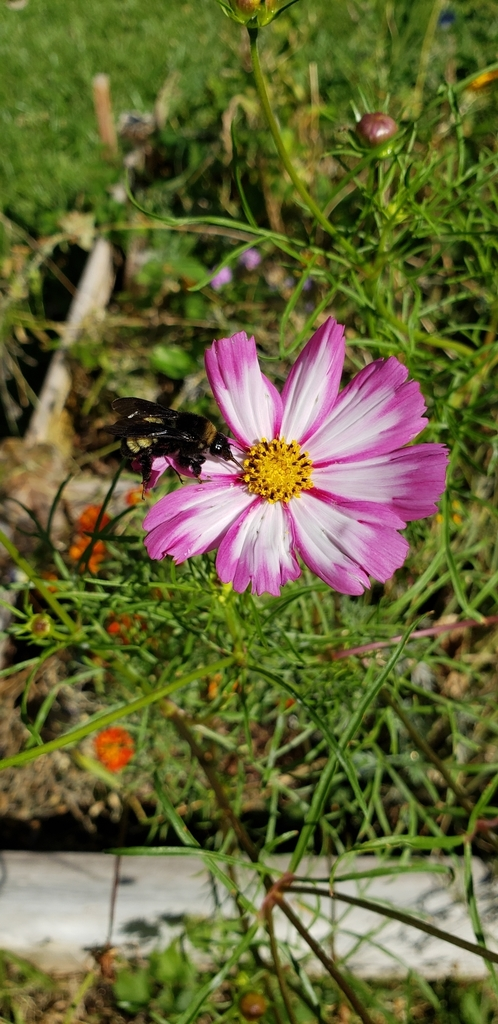bumblebee: (102, 395, 234, 486)
